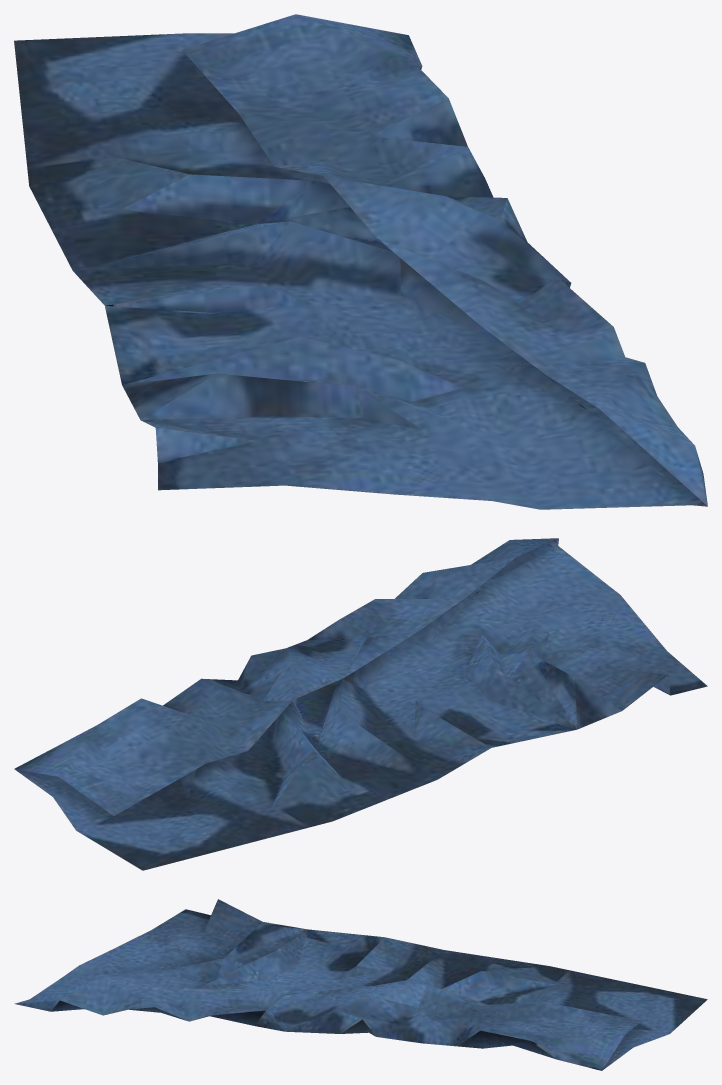
Rendered from rag_towel_blue_1_lod1_web.glb.
3 views of the same model, one above another, from view 1: azimuth 30°, elevation 25°; view 2: azimuth 150°, elevation 25°; view 3: azimuth 270°, elevation 25° (orthographic). The views are drawn at different scales.
Visible parts, largest first — view 1: rag_towel_blue_1_Cloth; view 2: rag_towel_blue_1_Cloth; view 3: rag_towel_blue_1_Cloth.
Part boxes in pixels (bbox=[...]): rag_towel_blue_1_Cloth: bbox=[14, 14, 707, 509]; rag_towel_blue_1_Cloth: bbox=[14, 538, 707, 870]; rag_towel_blue_1_Cloth: bbox=[14, 899, 707, 1070].
Bounding box in the file's own units: 0.5343 × 0.0482 × 0.9444.
Materials: 1 (1 with a texture image).
